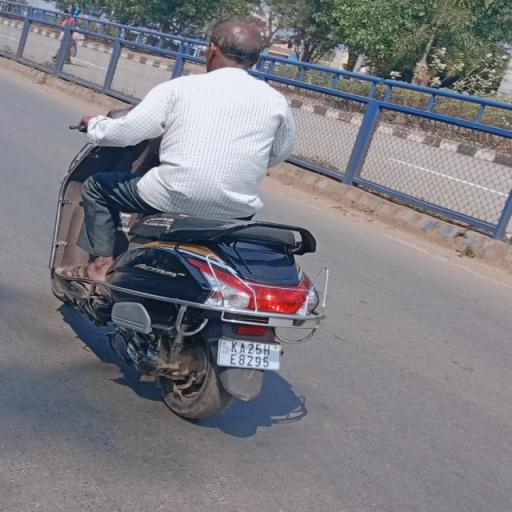bike: (45, 15, 353, 425)
numberplate: (218, 340, 287, 370)
withouthelmet: (204, 20, 267, 68)
